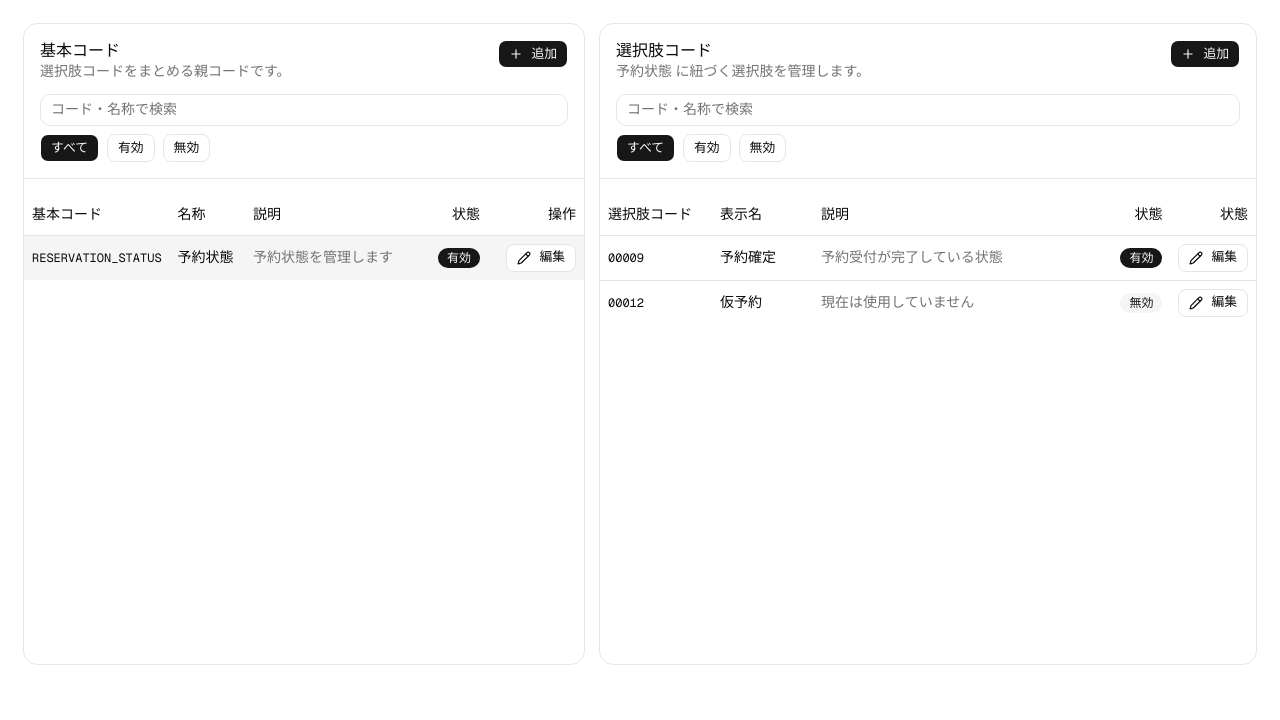
Test case: StandardCodeMasterPage › 無効フィルターを押すと、無効な選択肢コードだけを表示する
Check: the text "予約確定" is shown, box left=720, top=250, right=776, bottom=264
Check: the text "仮予約" is shown, box left=720, top=294, right=762, bottom=310
# [0] は基本コード側、[1] は選択肢コード側
Click the button "無効" below "予約状態 に紐づく選択肢を管理します。": click(762, 148) left=739, top=134, right=786, bottom=162
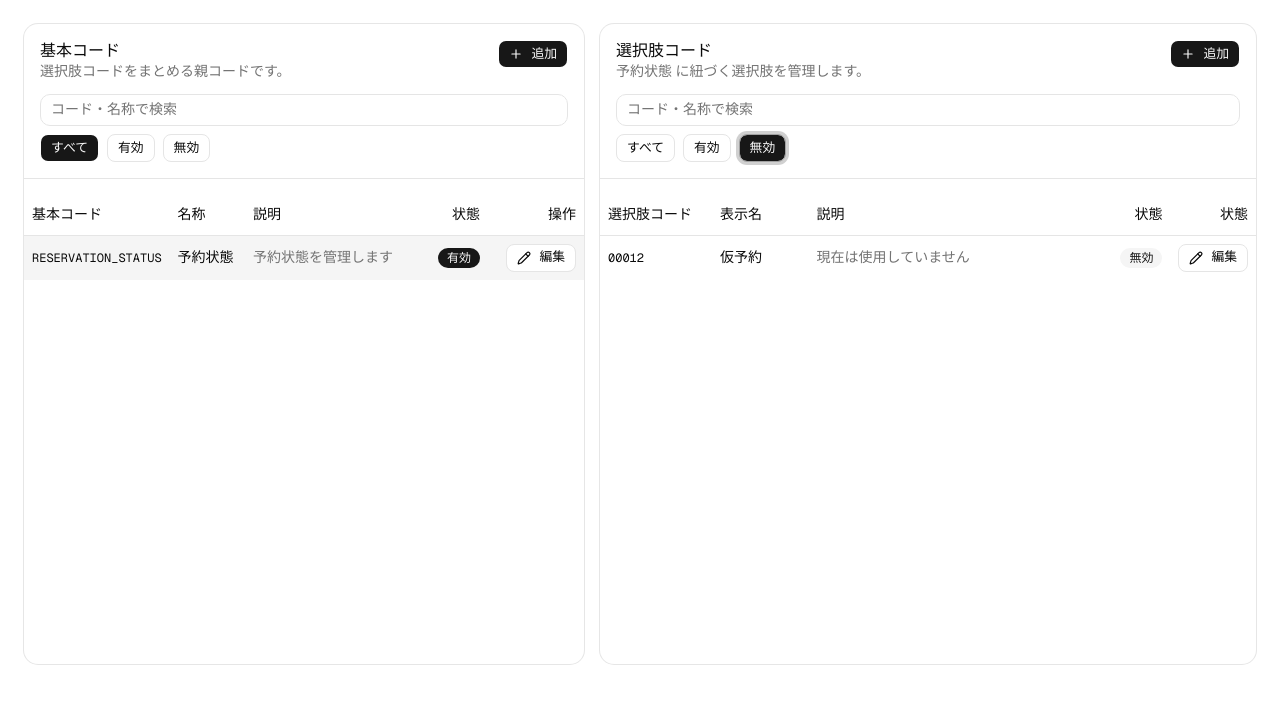
Check: the text "仮予約" is shown, box left=720, top=250, right=762, bottom=264
Check: the text "予約確定" is gone
